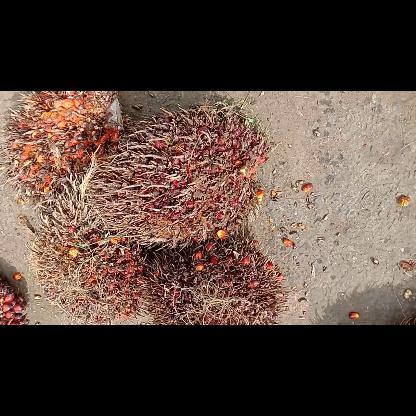Terlalu masak: (85, 102, 267, 250), (27, 172, 144, 324), (0, 90, 124, 202), (138, 236, 289, 324)
